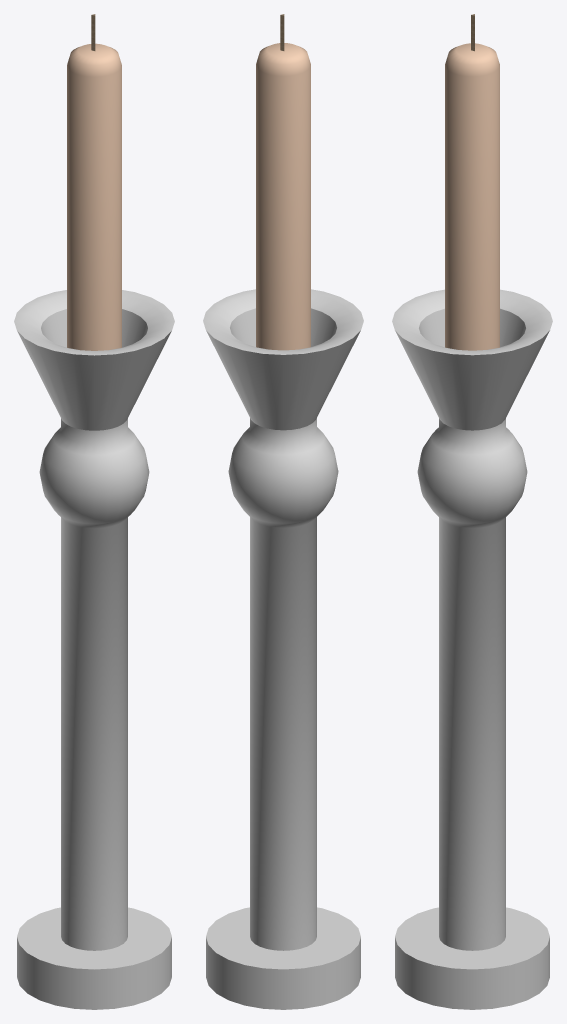
File: Candle.glb
The picture shows the model from 3 angles, left to right: view 1: azimuth 30°, elevation 25°; view 2: azimuth 150°, elevation 25°; view 3: azimuth 270°, elevation 25°; orthographic projection.
Visible parts, largest first — view 1: CandleStand; view 2: CandleStand; view 3: CandleStand.
Part boxes in pixels (box(x1,y1,x2,y2)): CandleStand: box(14, 14, 174, 1009); CandleStand: box(203, 14, 363, 1009); CandleStand: box(392, 14, 552, 1009).
Bounding box in the file's own units: 0.072 × 0.475 × 0.072.
3 materials, 1 textured.
